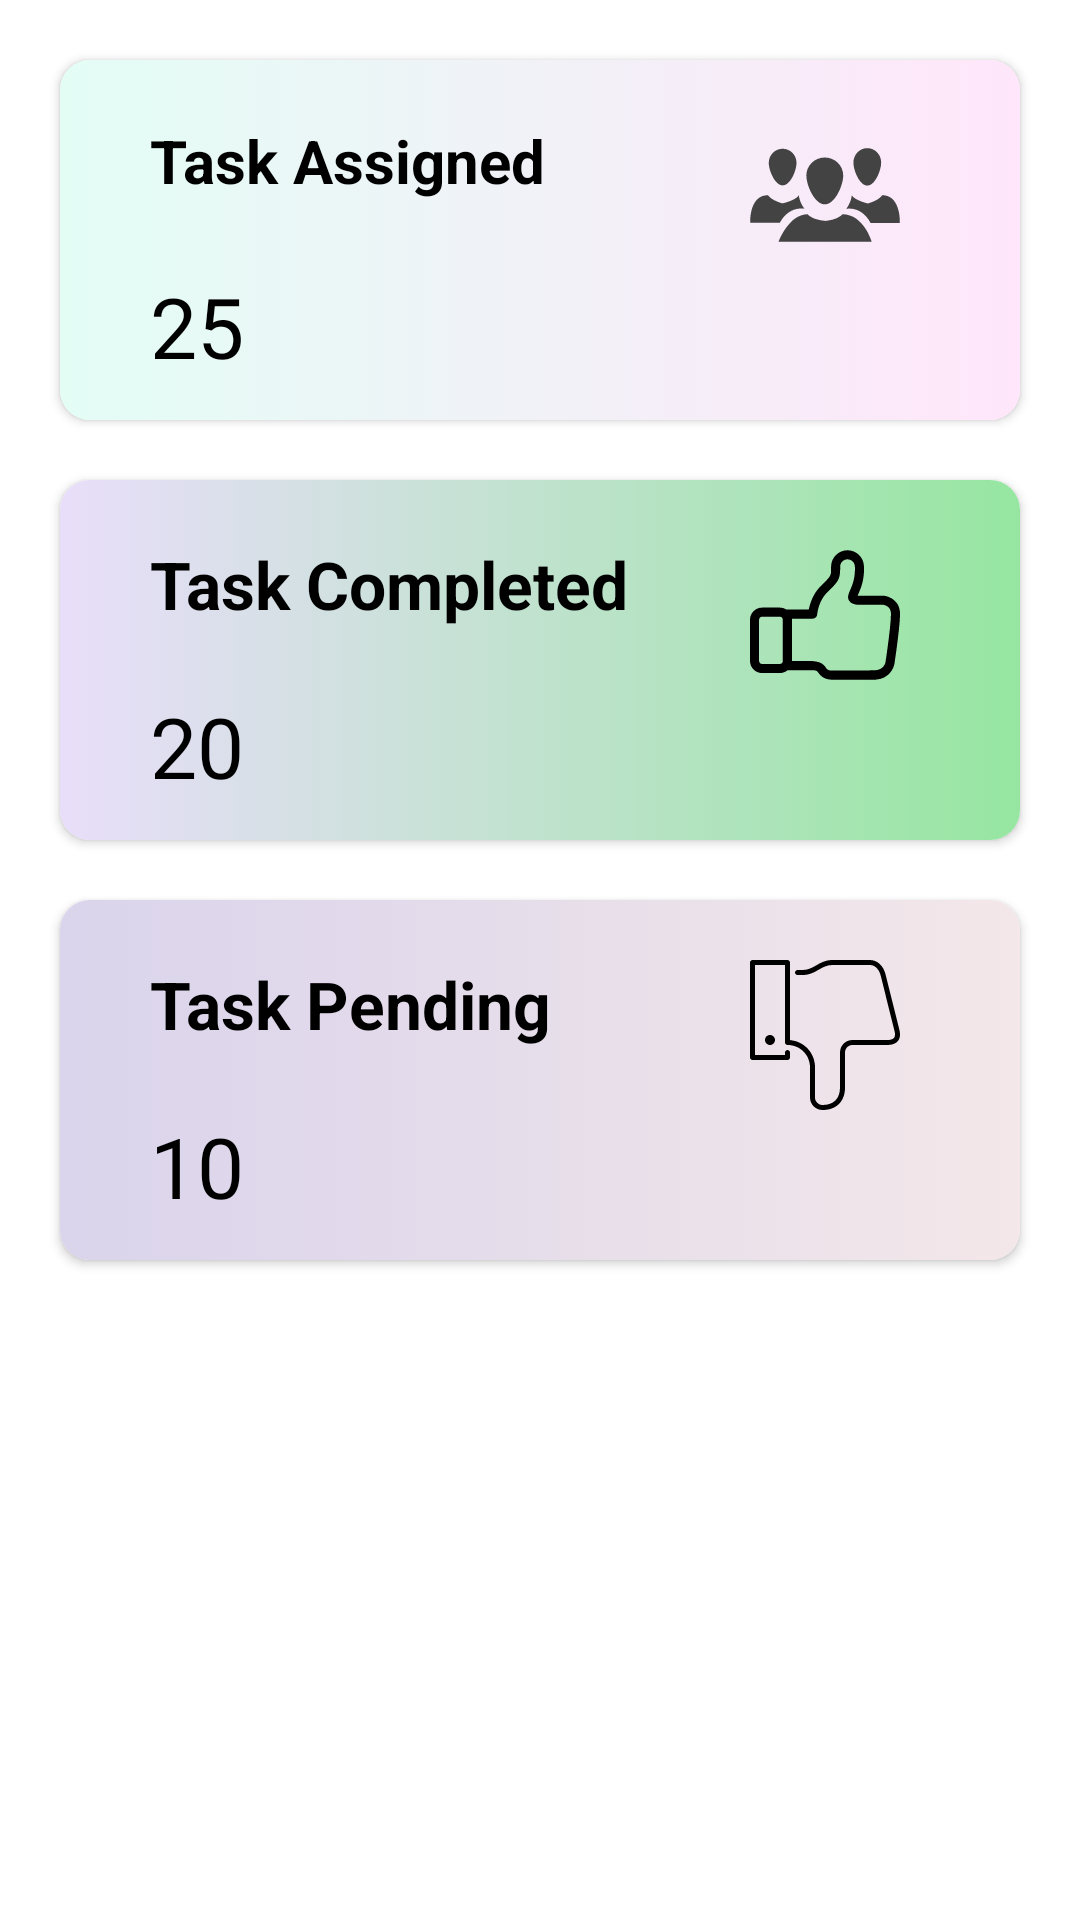

Icon click points for this 1080px×1920px phone screenshot, format (x=x, y=y):
person: (x=825, y=195)
thumb down: (x=825, y=1035)
thumb up: (x=825, y=615)
